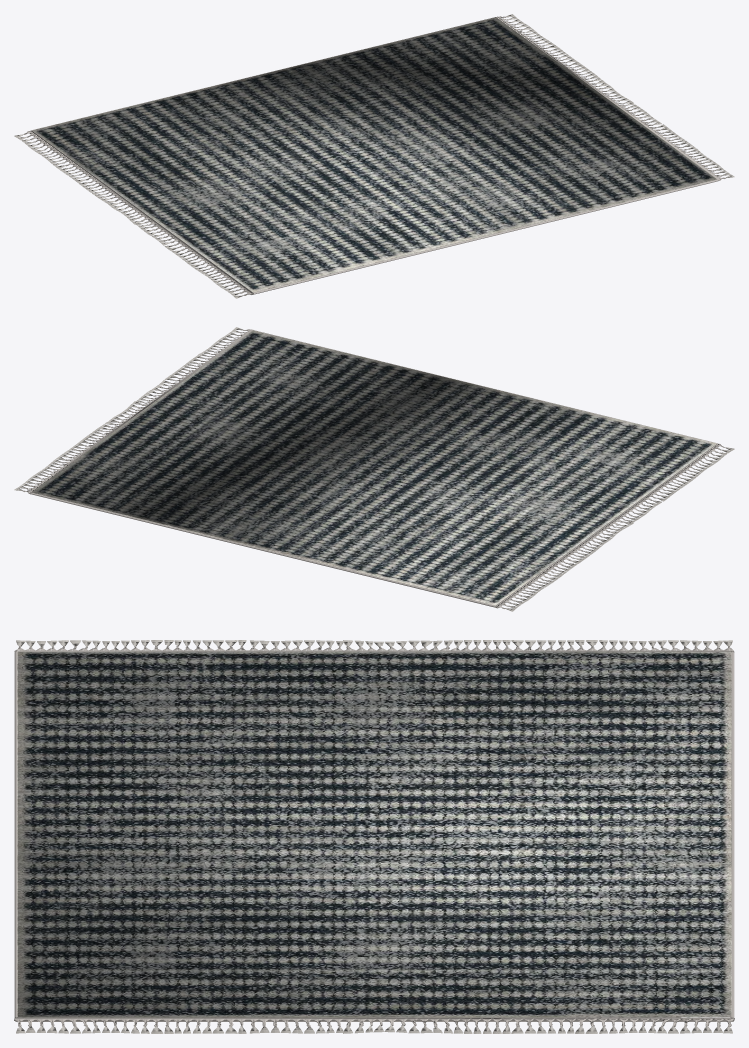
Rendered from abo-B07HSM8NKP.glb.
3 renders of one model, top to bottom at view 1: azimuth 30°, elevation 25°; view 2: azimuth 150°, elevation 25°; view 3: azimuth 270°, elevation 25°, orthographic. The views are drawn at different scales.
Parts seen in each view (by area): view 1: RootNode; view 2: RootNode; view 3: RootNode.
Part boxes in pixels (bbox=[...]): RootNode: bbox=[14, 14, 734, 298]; RootNode: bbox=[14, 327, 734, 611]; RootNode: bbox=[14, 640, 734, 1033].
Bounding box in the file's own units: 2.91 × 0.0121 × 2.26.
1 material, 1 textured.
